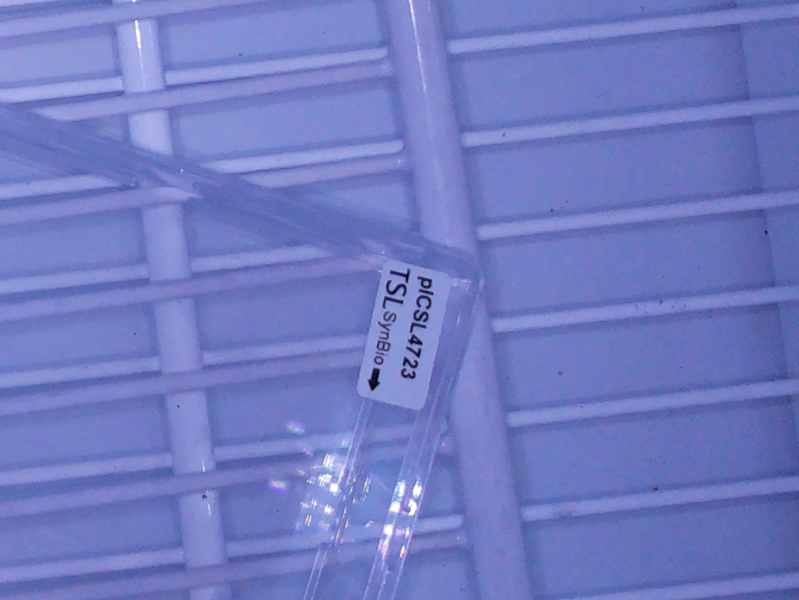plate: (1, 103, 486, 600)
